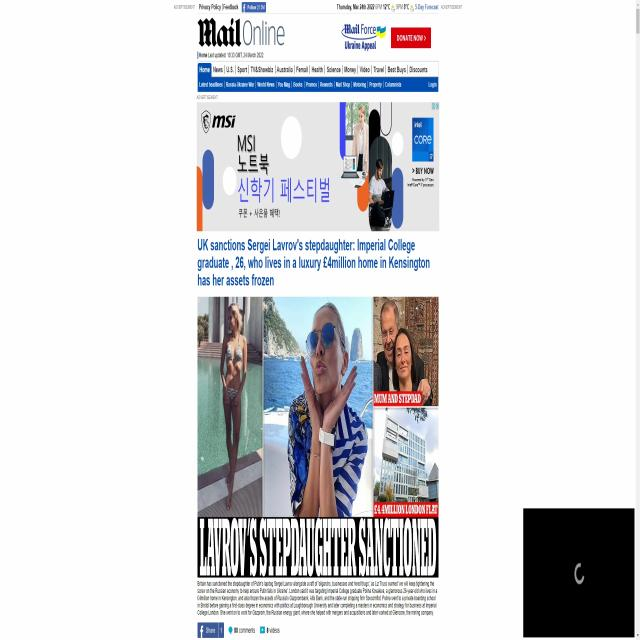menu-panel: (197, 62, 439, 92)
